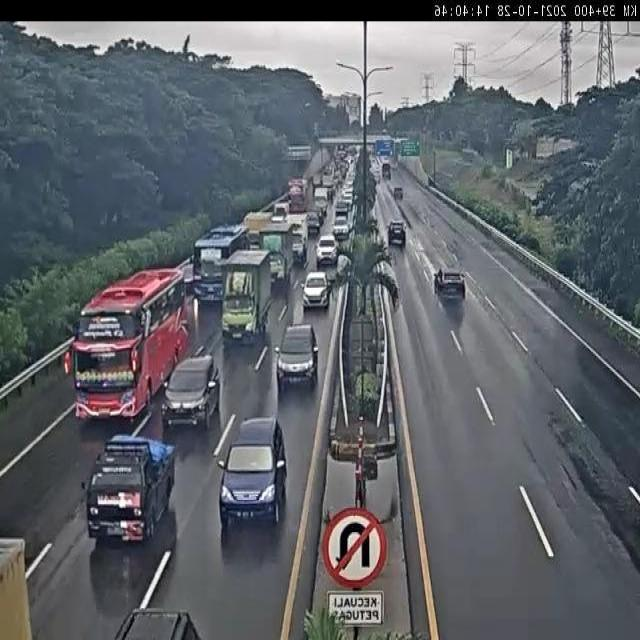Car: (202, 408, 304, 554), (86, 432, 176, 544), (162, 353, 219, 431), (276, 323, 318, 392), (434, 268, 466, 301), (332, 213, 351, 243), (387, 221, 406, 246), (306, 211, 321, 237), (394, 186, 404, 200)
Truck: (220, 248, 278, 350), (194, 224, 251, 301), (332, 418, 380, 508), (112, 606, 205, 640), (336, 268, 356, 386), (352, 372, 382, 433), (301, 270, 331, 310), (428, 168, 459, 192), (316, 235, 338, 268), (182, 261, 200, 296), (269, 248, 286, 284), (313, 187, 331, 220), (370, 151, 389, 182), (342, 173, 357, 210), (372, 259, 392, 284), (336, 257, 352, 287), (552, 137, 576, 156), (286, 145, 312, 161), (290, 217, 305, 244), (334, 200, 350, 225), (387, 276, 399, 309), (290, 177, 307, 200), (291, 238, 305, 265), (270, 204, 288, 223), (289, 194, 306, 214), (378, 244, 392, 266), (394, 138, 409, 158), (326, 265, 338, 288), (247, 231, 262, 249), (368, 207, 379, 231), (369, 138, 383, 156), (179, 321, 189, 346), (356, 148, 367, 168), (532, 199, 544, 216), (337, 146, 348, 164), (580, 159, 598, 170), (346, 146, 358, 162), (317, 130, 333, 142), (327, 177, 337, 196), (392, 144, 400, 167), (338, 160, 348, 178), (288, 184, 298, 202), (324, 165, 334, 182), (344, 155, 354, 172), (381, 336, 387, 364), (369, 165, 378, 182), (72, 320, 80, 339), (312, 174, 322, 189), (244, 235, 253, 250), (506, 148, 512, 170), (330, 147, 338, 163), (460, 136, 469, 150), (313, 121, 319, 140), (428, 175, 436, 188), (367, 146, 375, 158), (389, 140, 395, 156), (462, 158, 473, 166), (394, 138, 404, 145), (460, 274, 466, 284), (422, 214, 428, 223), (382, 128, 388, 134)
